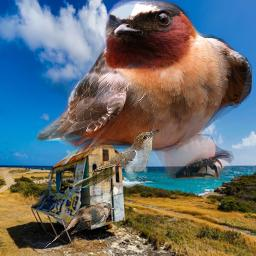Cuckoo: (72, 129, 160, 188), (44, 202, 116, 248)
Swallow: (37, 0, 252, 179)
